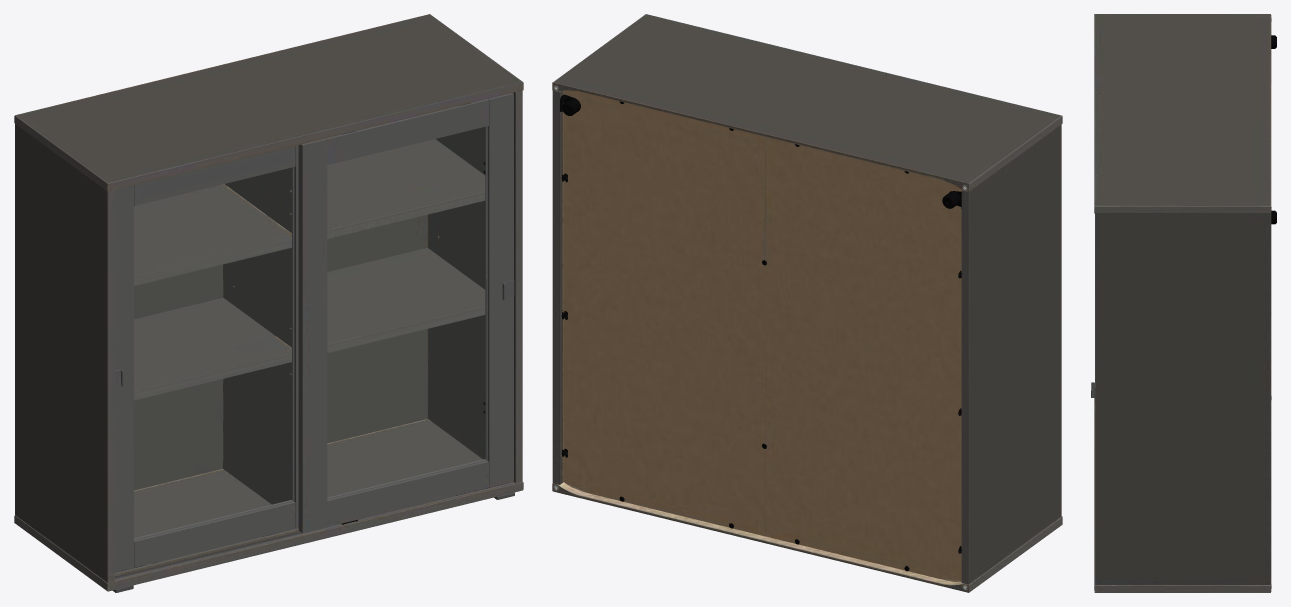
Rendered from 18 - VIHALS Cabinet with sliding glass doors - dark grey 95x37x90 cm.glb.
3 views of the same model, side by side, from view 1: azimuth 30°, elevation 25°; view 2: azimuth 150°, elevation 25°; view 3: azimuth 270°, elevation 25° (orthographic). The views are drawn at different scales.
Visible parts, largest first — view 1: 20542879-VIHALS001; view 2: 20542879-VIHALS001; view 3: 20542879-VIHALS001.
Boxes of the visible parts, x1=… form: 20542879-VIHALS001: x1=14, y1=14, x2=523, y2=592; 20542879-VIHALS001: x1=552, y1=14, x2=1062, y2=592; 20542879-VIHALS001: x1=1091, y1=14, x2=1276, y2=592.
Bounding box in the file's own units: 0.952 × 0.9 × 0.3884.
Materials: 2 (2 with a texture image).
